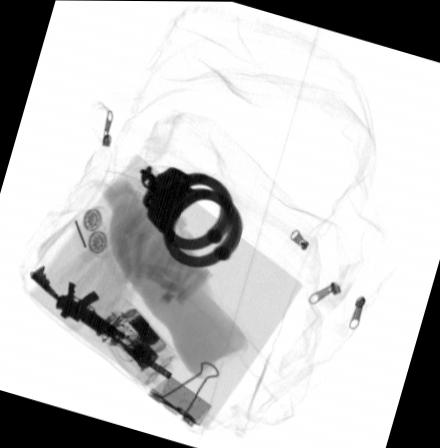Gun: (27, 263, 175, 379)
HandCuffs: (137, 162, 241, 268)
